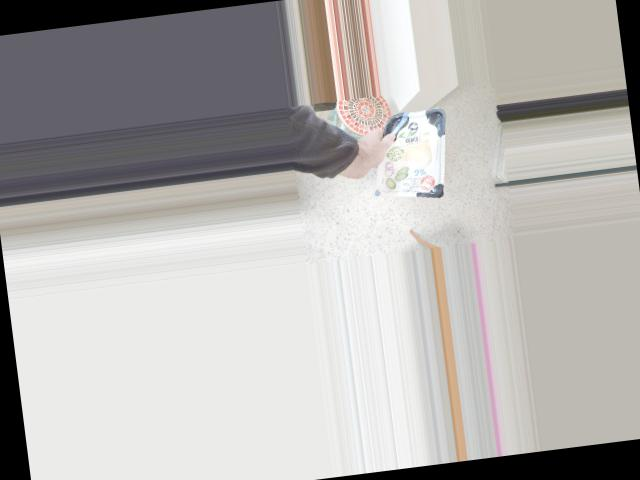cheese: (354, 126, 432, 204)
